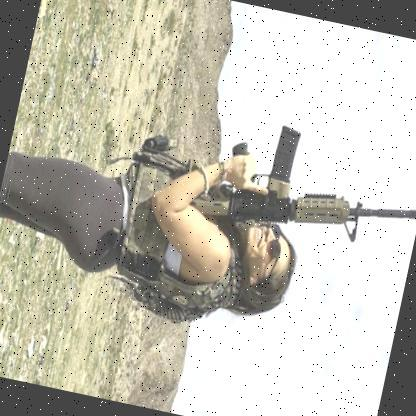rifle: (172, 108, 416, 262)
